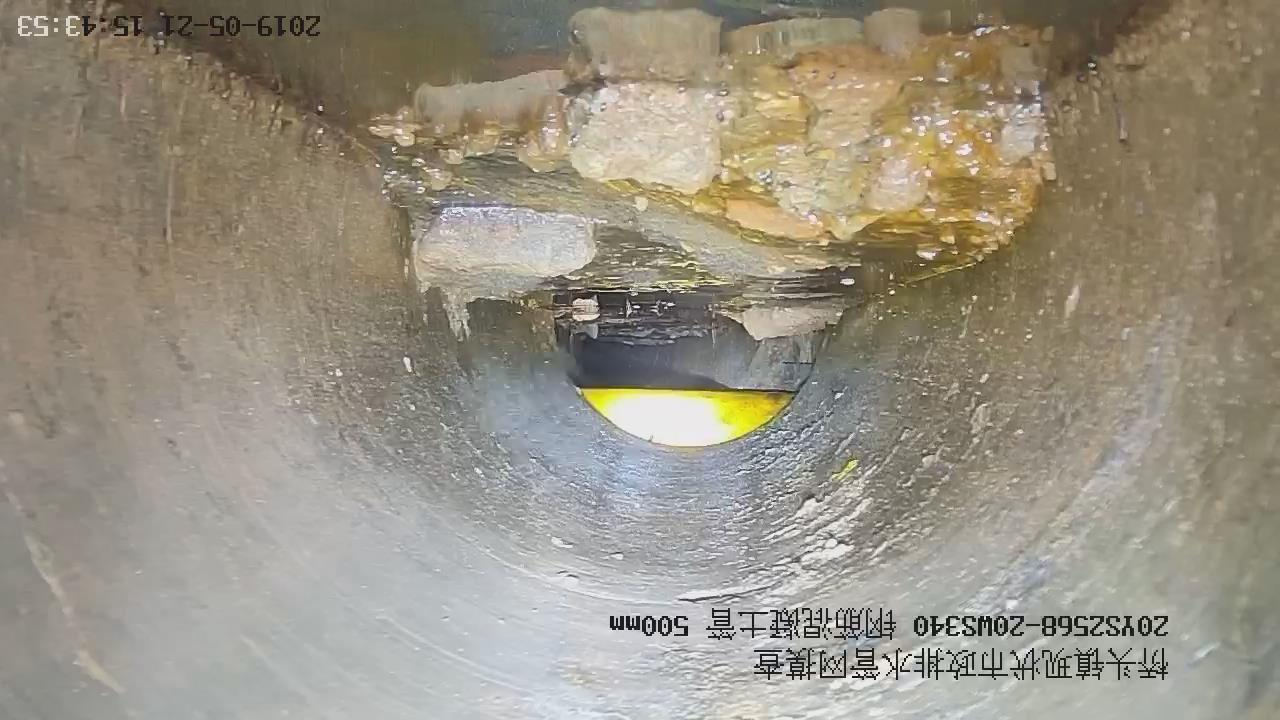CJ: (370, 10, 1055, 344)
YWCR: (577, 387, 795, 447)
